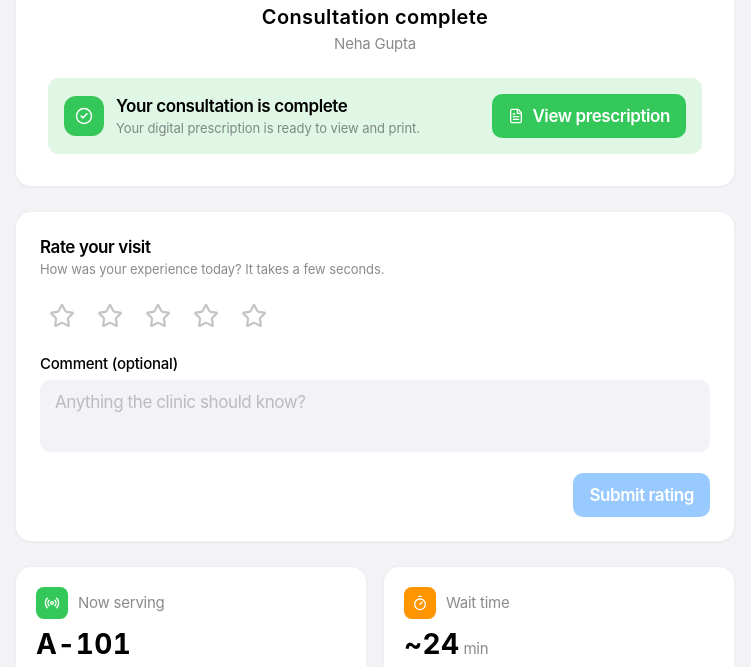
Test: PatientQueueTracker › submits a rating with a comment and shows thanks
(page scrolled)
Check: the heading "Rate your visit" is shown, box [40,237,150,257]
Check: the button "Submit rating" is disabled, box [573,473,710,517]
Click the radio button named "4 stars, Very good": click(206, 316) [184,294,228,338]
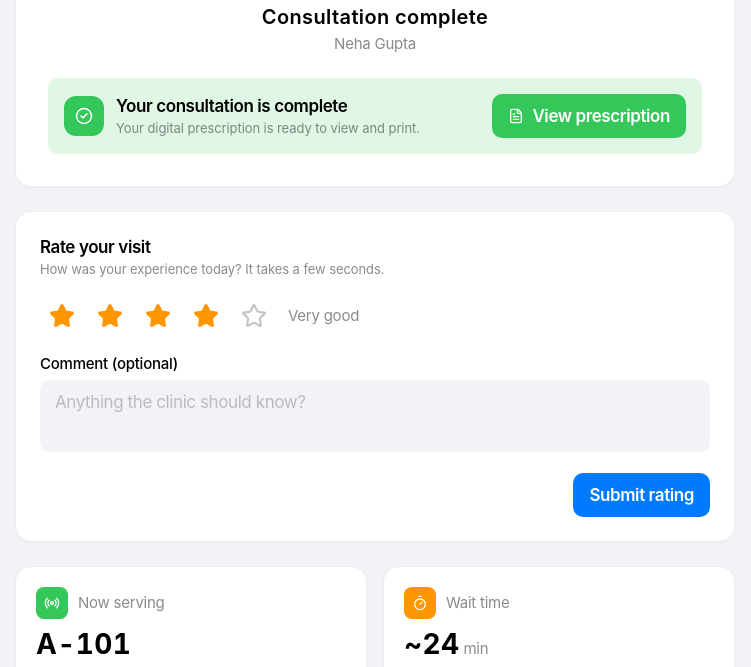
Check: the radio button named "4 stars, Very good" is checked, box [184,294,228,338]
In the text box labelled "Comment (optional)": (375, 416) [40,380,710,452], type "Quick visit"
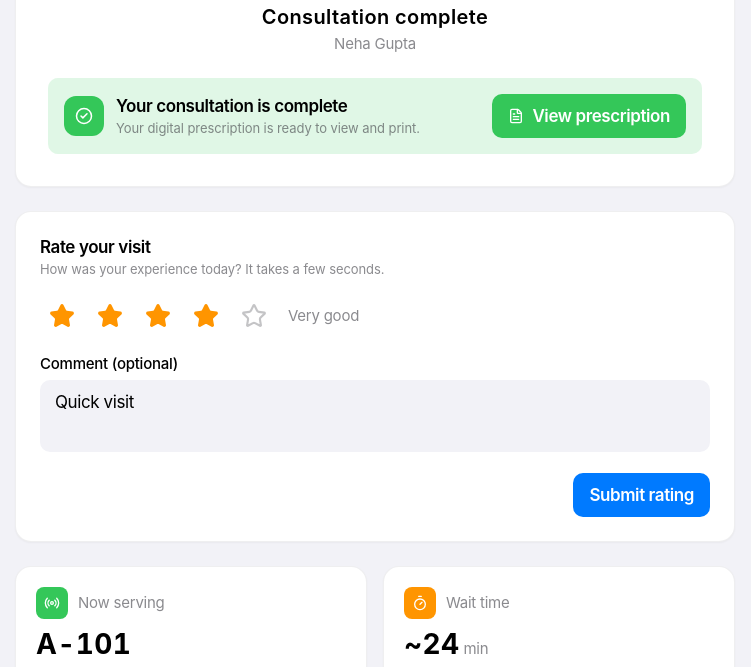
Click the button "Submit rating": click(642, 495) [573,473,710,517]
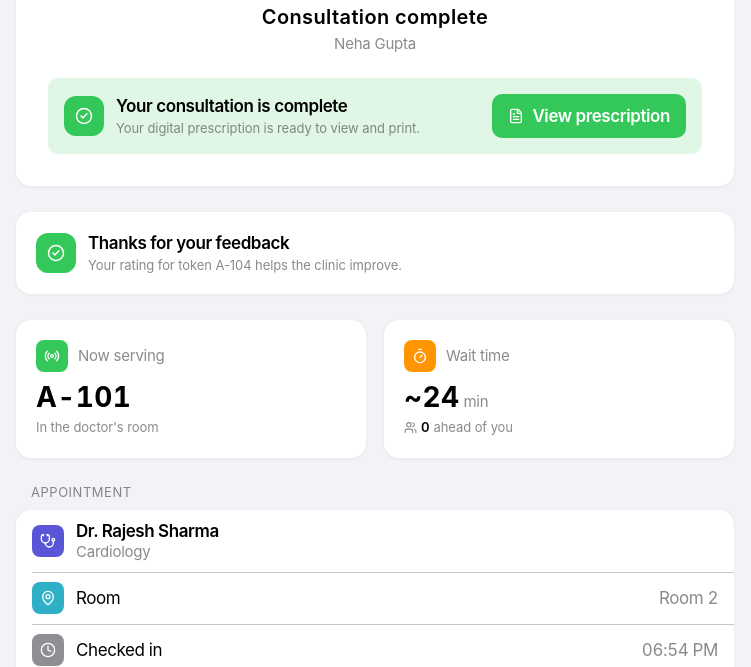
Check: the text "Thanks for your feedback" is shown, box [88,233,289,253]
